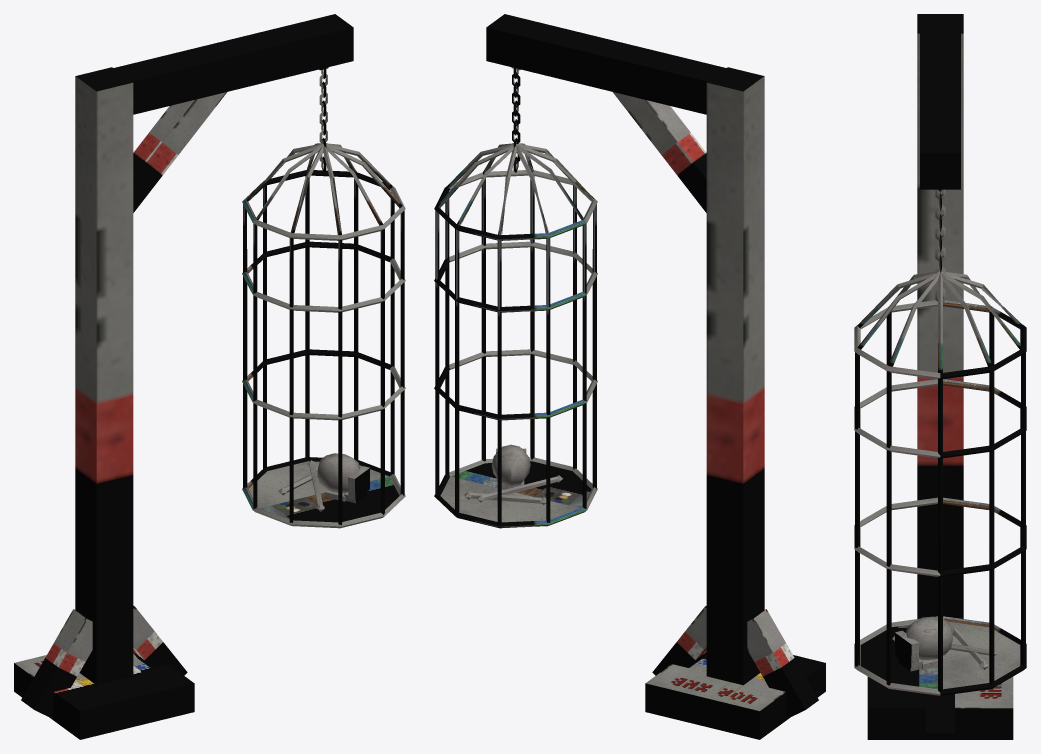
The model's file is gibbet.fbx.
3 views of the same model, side by side, from view 1: azimuth 30°, elevation 25°; view 2: azimuth 150°, elevation 25°; view 3: azimuth 270°, elevation 25° (orthographic). The views are drawn at different scales.
Parts seen in each view (by area): view 1: gibbet, gibbet_cage; view 2: gibbet, gibbet_cage; view 3: gibbet, gibbet_cage.
Part boxes in pixels (x1,y1,x2,y2): gibbet: (14, 14, 353, 739); gibbet_cage: (242, 68, 405, 528); gibbet: (486, 14, 825, 739); gibbet_cage: (434, 68, 597, 528); gibbet: (867, 14, 1013, 739); gibbet_cage: (854, 189, 1026, 695).
Bounding box in the file's own units: 1.61 × 2.6 × 0.5935.
